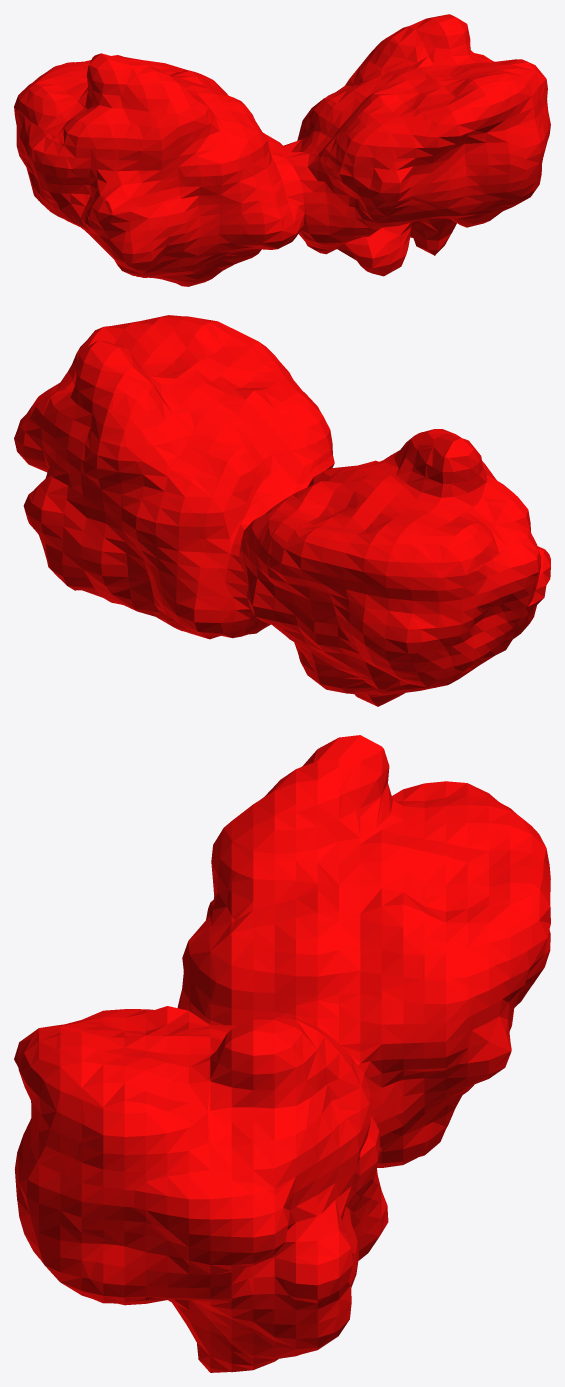
The model's file is pabB_coarse.dae.
3 renders of one model, top to bottom at view 1: azimuth 30°, elevation 25°; view 2: azimuth 150°, elevation 25°; view 3: azimuth 270°, elevation 25°, orthographic. The views are drawn at different scales.
Parts seen in each view (by area): view 1: pabB; view 2: pabB; view 3: pabB.
Part boxes in pixels (bbox=[...]): pabB: bbox=[14, 14, 550, 286]; pabB: bbox=[14, 315, 550, 706]; pabB: bbox=[14, 735, 550, 1372].
Bounding box in the file's own units: 124 × 64.09 × 75.03.
